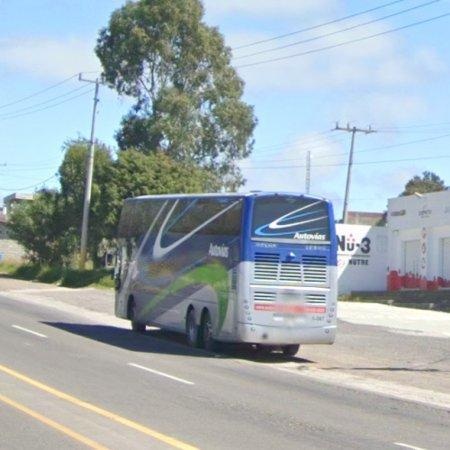buses: (115, 193, 338, 354)
